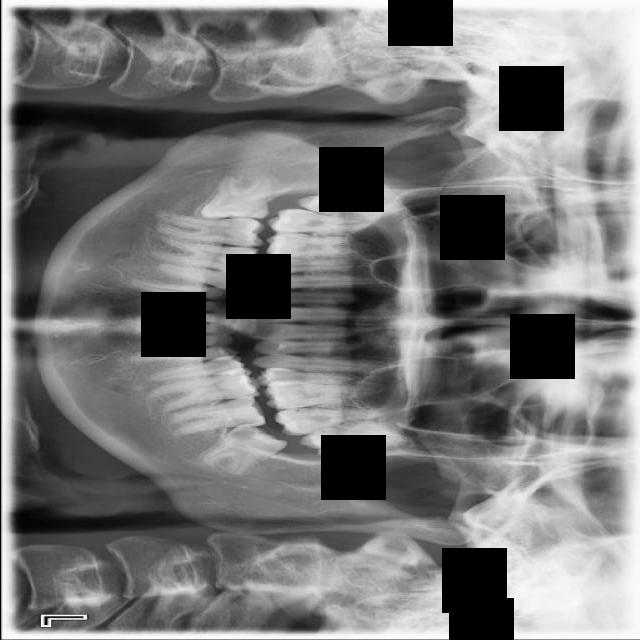3M ESPE Implant: (294, 182, 407, 228)
52: (218, 241, 262, 279), (215, 366, 262, 401), (224, 393, 266, 432), (232, 430, 254, 442)
73: (65, 586, 79, 594)
BioHorizons Implant: (273, 407, 378, 436)
BioLife Implant: (299, 430, 398, 457)
Biomet 3i Implant: (195, 407, 289, 489)
Blue Sky Bio Implant: (162, 394, 265, 437)
Caries: (265, 208, 379, 235)
Implant: (158, 211, 265, 249)
Keystone Dental Implant: (200, 173, 273, 220)
